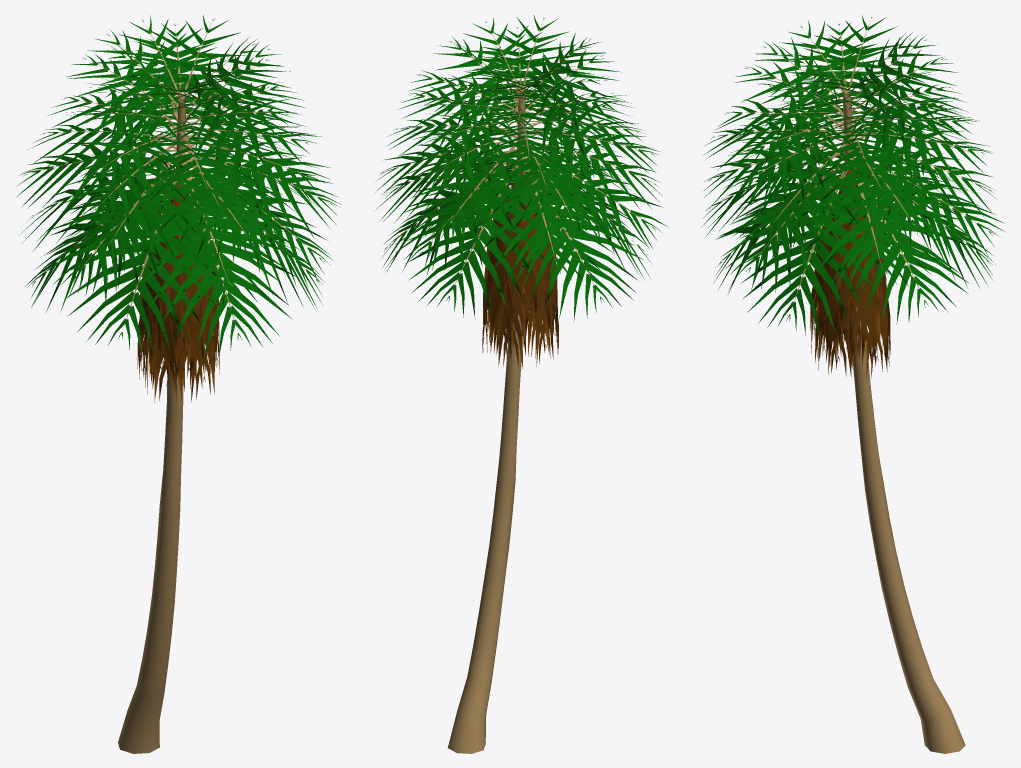
The model's file is Tree_03.fbx.
The picture shows the model from 3 angles, left to right: view 1: azimuth 30°, elevation 25°; view 2: azimuth 150°, elevation 25°; view 3: azimuth 270°, elevation 25°; orthographic projection. The views are drawn at different scales.
Visible parts, largest first — view 1: Foliage002; view 2: Foliage002; view 3: Foliage002.
Boxes of the visible parts, x1=… form: Foliage002: x1=17, y1=15, x2=341, y2=753; Foliage002: x1=374, y1=15, x2=667, y2=753; Foliage002: x1=701, y1=15, x2=1004, y2=753.
Size of the model in its own units: 450 by 1115 by 445.
